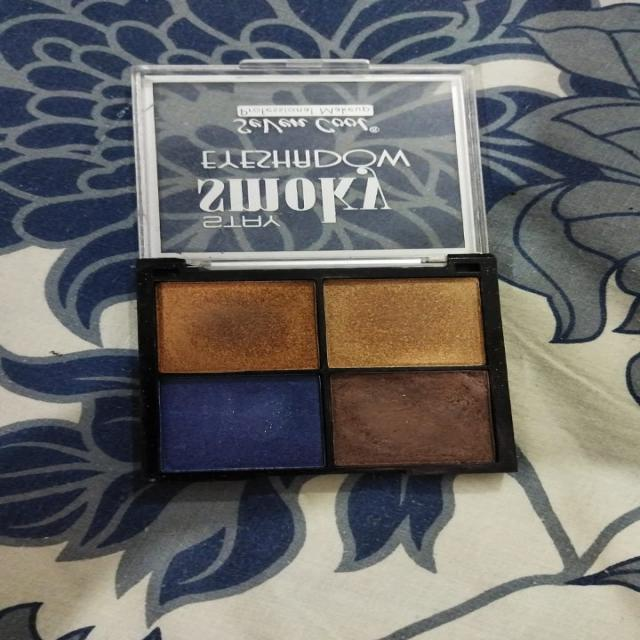bronzer: (144, 271, 332, 377)
eye shade: (321, 369, 536, 478), (152, 367, 334, 477), (318, 272, 492, 373)
